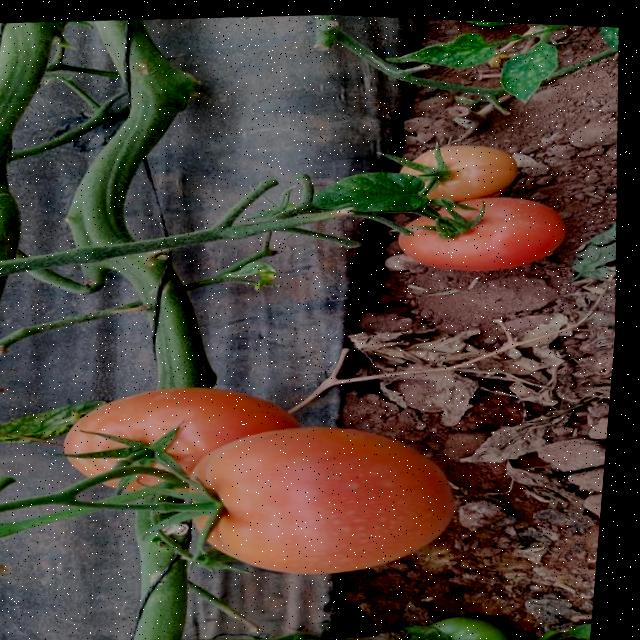Ripe Tomato: (160, 413, 475, 579), (44, 375, 310, 510), (399, 185, 572, 280), (383, 131, 516, 200)
Unripe Tomato: (391, 606, 514, 640), (528, 629, 584, 640)
